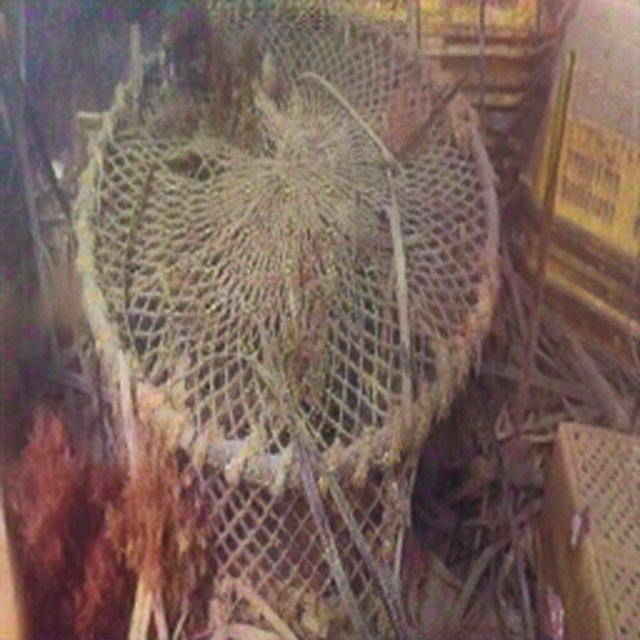mine: (75, 0, 500, 640)
